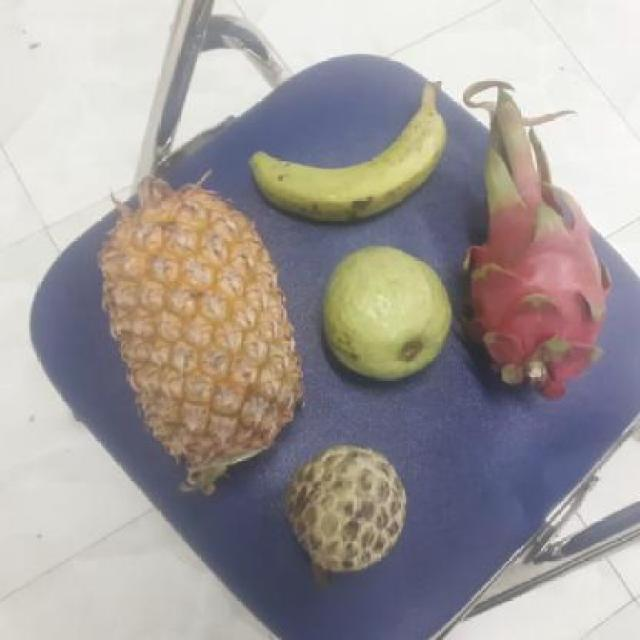banana: (246, 100, 439, 222)
dragon fruit: (451, 176, 607, 390)
guava: (313, 248, 453, 381)
pineapple: (89, 188, 300, 480)
sugar apple: (279, 442, 407, 573)
